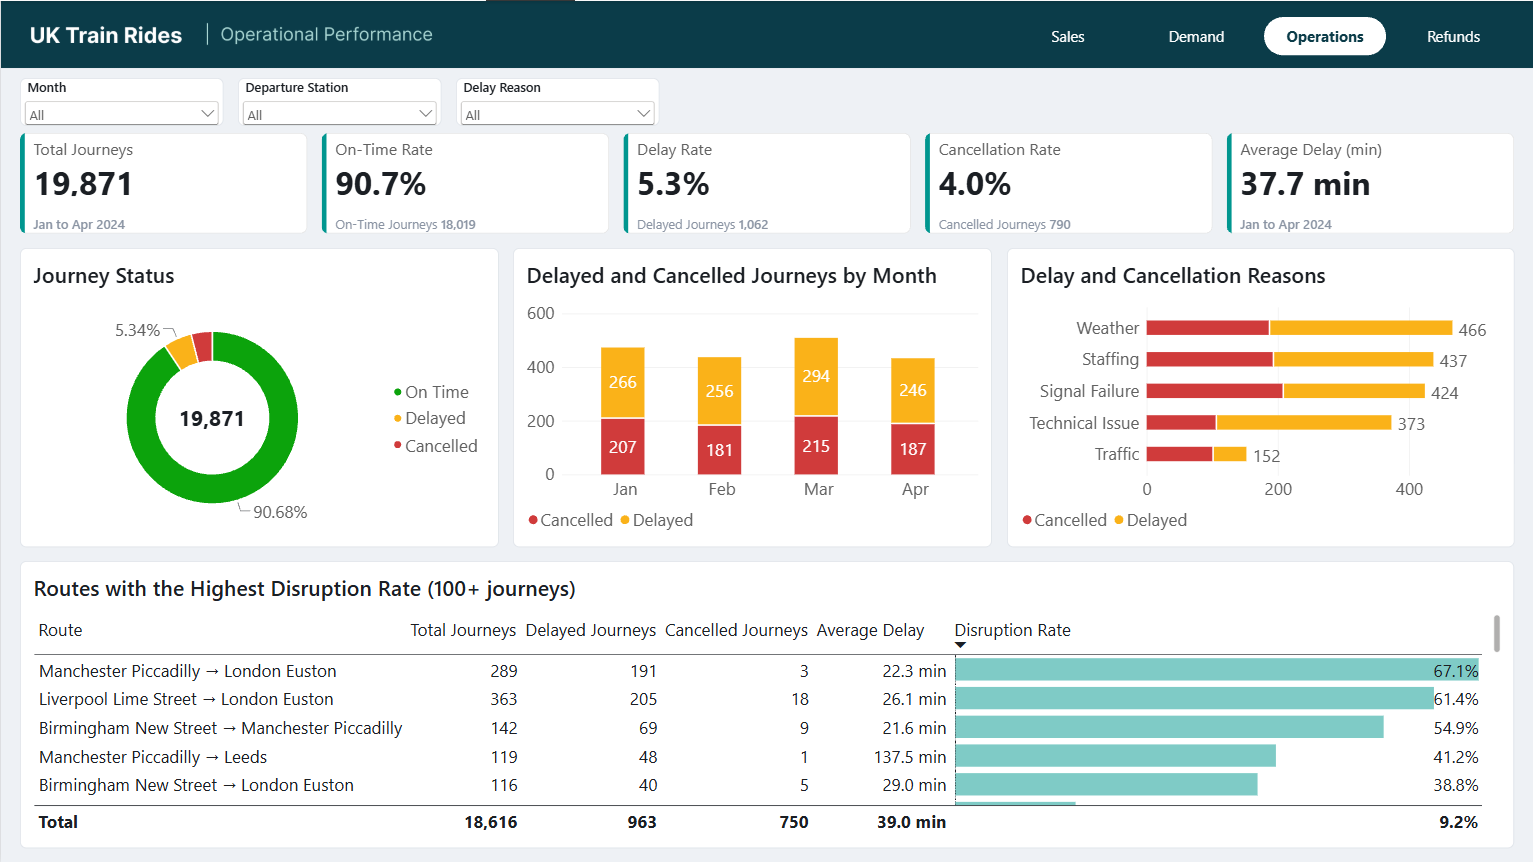

Layout of this report page (visuals, bound fields, positions):
{"tool":"powerbi","page":{"name":"Operations","canvas":[1920,1080],"ordinal":2},"visuals":[{"type":"cardVisual","fields":{"Data":["_Measures.Total Journeys","_Measures.On-Time Rate","_Measures.Delay Rate","_Measures.Cancellation Rate","_Measures.Average Delay"]},"box":[24,165,1872,126],"z":0},{"type":"slicer","fields":{"Values":["Dim_Date.Month Name"]},"box":[24,96,255,60],"z":1000},{"type":"slicer","fields":{"Values":["Dim_Station.Station_Name"]},"box":[297,96,255,60],"z":2000},{"type":"slicer","fields":{"Values":["Dim_DelayReason.Reason_for_Delay"]},"box":[570,96,255,60],"z":3000},{"type":"donutChart","title":"Journey Status","fields":{"Category":["Fact_Journey.Journey_Status"],"Y":["_Measures.Total Journeys"]},"box":[24,309,600,375],"z":4000},{"type":"columnChart","title":"Delayed and Cancelled Journeys by Month","fields":{"Category":["Dim_Date.Month Name"],"Series":["Fact_Journey.Journey_Status"],"Y":["_Measures.Total Journeys"]},"box":[642,309,600,375],"z":5000},{"type":"barChart","title":"Delay and Cancellation Reasons","fields":{"Category":["Dim_DelayReason.Reason_for_Delay"],"Series":["Fact_Journey.Journey_Status"],"Y":["_Measures.Total Journeys"]},"box":[1260,309,636,375],"z":6000},{"type":"tableEx","title":"Routes with the Highest Disruption Rate (100+ journeys)","fields":{"Values":["Dim_Route.Route","_Measures.Total Journeys","_Measures.Delayed Journeys","_Measures.Cancelled Journeys","_Measures.Average Delay","_Measures.Disruption Rate"]},"box":[24,702,1872,360],"z":7000},{"type":"pageNavigator","box":[1260,20,636,48],"z":8000}]}

Visuals, with their boxes in screenshot pixels (x1, y1, x2, y2), scaled from the page's 1920x1080 canvas onto the 1533x862 screenshot:
cardVisual - _Measures.Total Journeys x _Measures.On-Time Rate: x1=19 y1=132 x2=1514 y2=232
slicer - Dim_Date.Month Name: x1=19 y1=77 x2=223 y2=125
slicer - Dim_Station.Station_Name: x1=237 y1=77 x2=441 y2=125
slicer - Dim_DelayReason.Reason_for_Delay: x1=455 y1=77 x2=659 y2=125
"Journey Status" donutChart: x1=19 y1=247 x2=498 y2=546
"Delayed and Cancelled Journeys by Month" columnChart: x1=513 y1=247 x2=992 y2=546
"Delay and Cancellation Reasons" barChart: x1=1006 y1=247 x2=1514 y2=546
"Routes with the Highest Disruption Rate (100+ journeys)" tableEx: x1=19 y1=560 x2=1514 y2=848
pageNavigator: x1=1006 y1=16 x2=1514 y2=54
